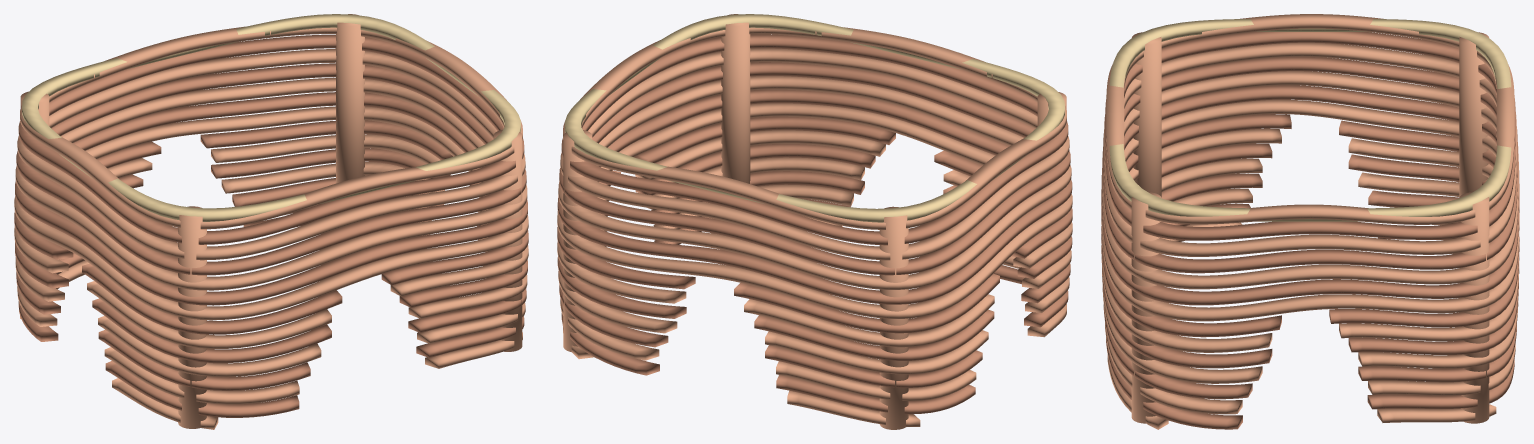
File: mod_04_outer_shell.glb
3 renders of one model, left to right at view 1: azimuth 30°, elevation 25°; view 2: azimuth 150°, elevation 25°; view 3: azimuth 270°, elevation 25°, orthographic. The views are drawn at different scales.
Visible parts, largest first — view 1: Shell_Left_Mesh, Shell_Right_Mesh; view 2: Shell_Left_Mesh, Shell_Right_Mesh; view 3: Shell_Right_Mesh, Shell_Left_Mesh.
Part boxes in pixels (box(x1,y1,x2,y2)): Shell_Left_Mesh: box(14, 39, 371, 429); Shell_Right_Mesh: box(171, 14, 528, 368); Shell_Left_Mesh: box(714, 39, 1072, 429); Shell_Right_Mesh: box(557, 14, 913, 375); Shell_Right_Mesh: box(1101, 113, 1519, 429); Shell_Left_Mesh: box(1101, 14, 1519, 254).
Size of the model in its own units: 4.76 by 2.48 by 4.16.
